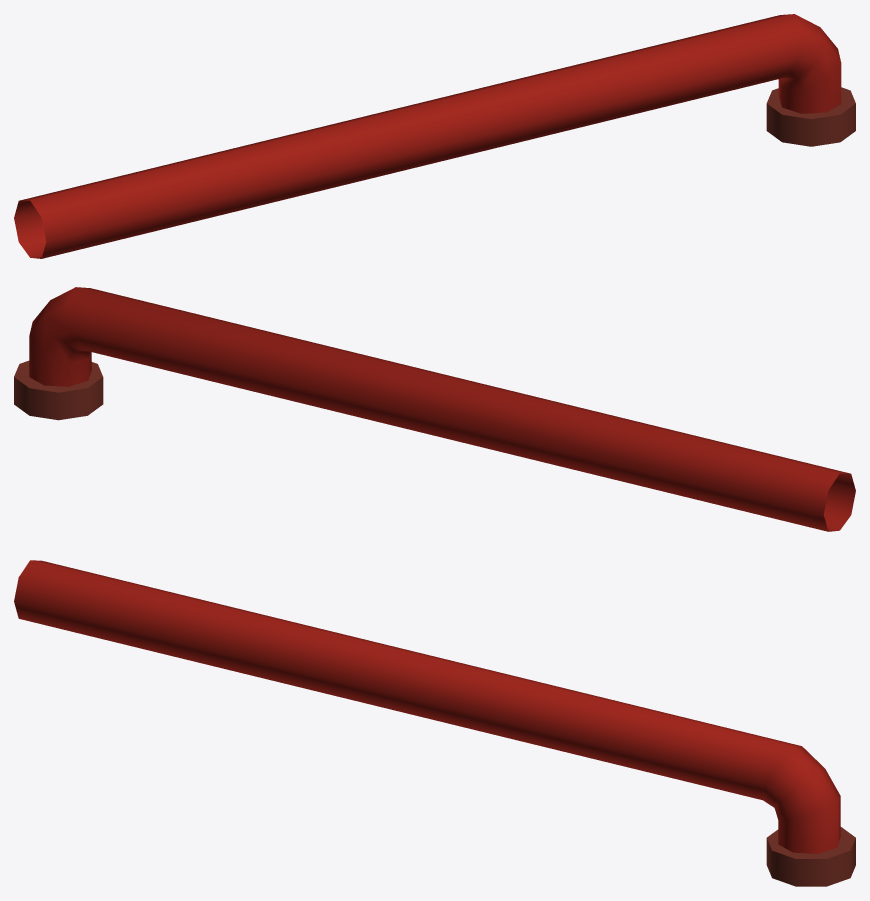
The model's file is Pipe_1_E_2_3.fbx.
3 renders of one model, top to bottom at view 1: azimuth 30°, elevation 25°; view 2: azimuth 150°, elevation 25°; view 3: azimuth 330°, elevation 25°, orthographic.
Parts seen in each view (by area): view 1: Pipe_1_E_2_3; view 2: Pipe_1_E_2_3; view 3: Pipe_1_E_2_3.
Boxes of the visible parts, left/top/right/bottom form: Pipe_1_E_2_3: left=14, top=14, right=855, bottom=258; Pipe_1_E_2_3: left=14, top=287, right=855, bottom=531; Pipe_1_E_2_3: left=14, top=560, right=855, bottom=886.
Size of the model in its own units: 320 by 43.92 by 30.12.
